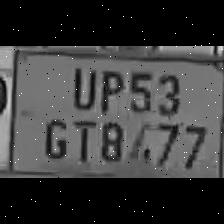3: (152, 67, 182, 115)
4: (127, 117, 152, 165)
5: (124, 64, 154, 114)
7: (150, 116, 177, 168), (178, 120, 206, 170)
8: (96, 116, 124, 164)
G: (39, 116, 69, 160)
P: (95, 64, 125, 114)
T: (70, 117, 96, 163)
U: (68, 63, 96, 111)
